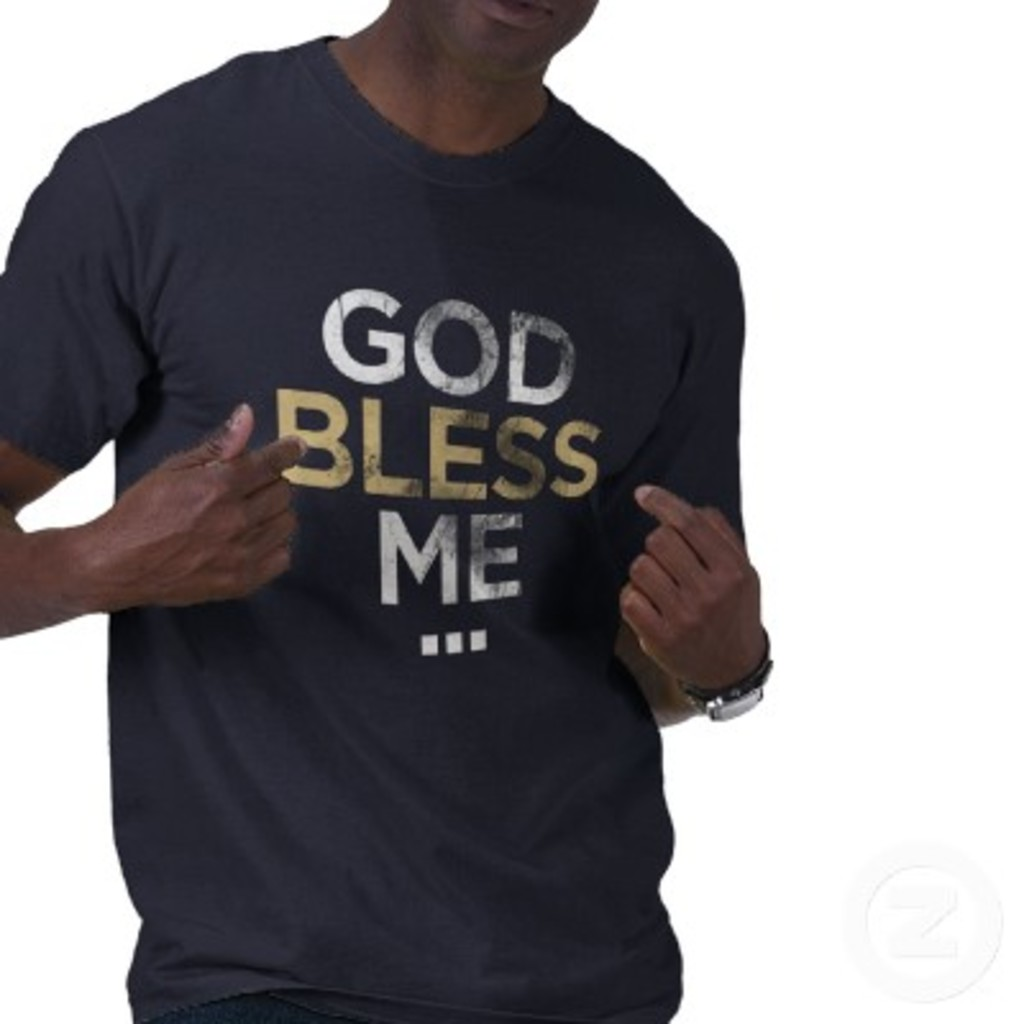face: (403, 0, 614, 70)
